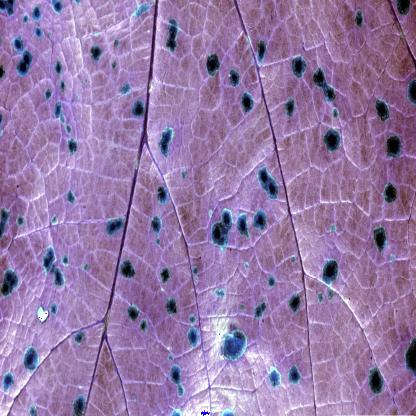grape leaf black rot: (1, 3, 411, 416)
